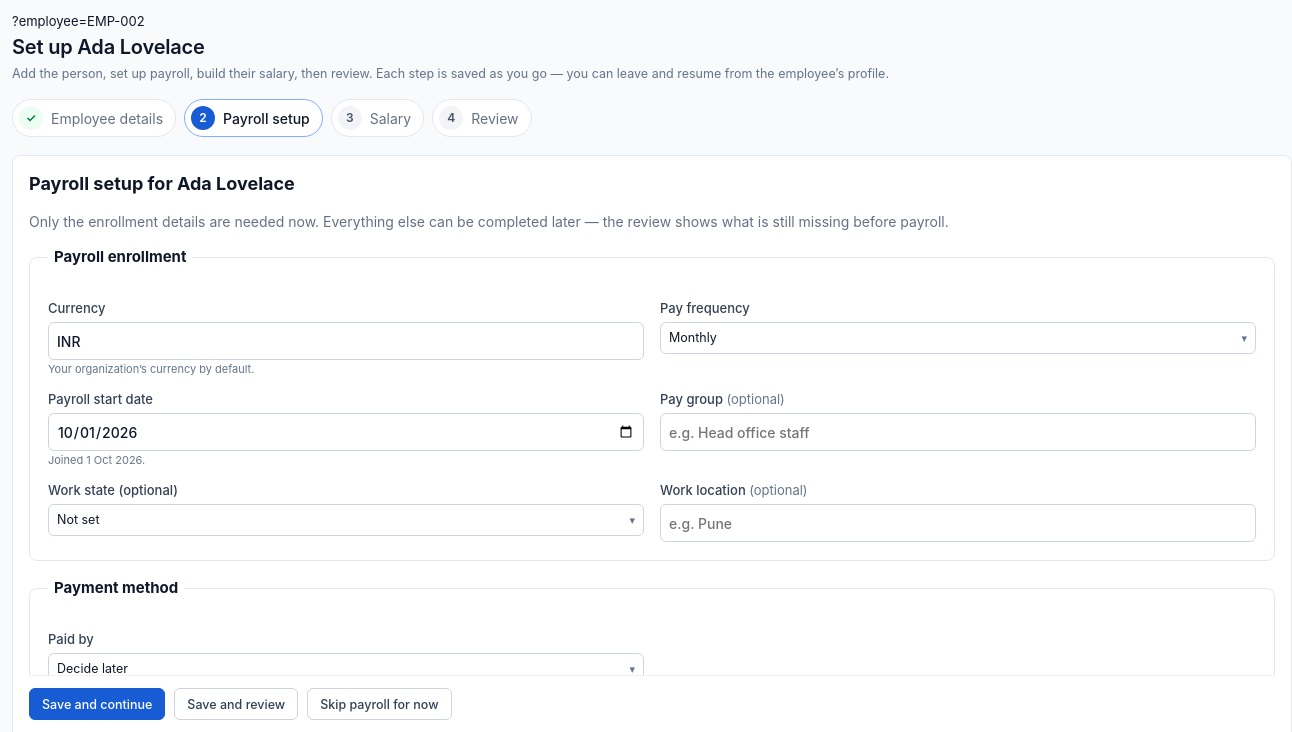
it: treats an existing payroll enrollment as done instead of failing
Expected: the heading "Payroll setup for Ada Lovelace" is shown, [29, 173, 295, 194]
Click the button "Save and continue": x=97, y=704 [29, 688, 165, 720]
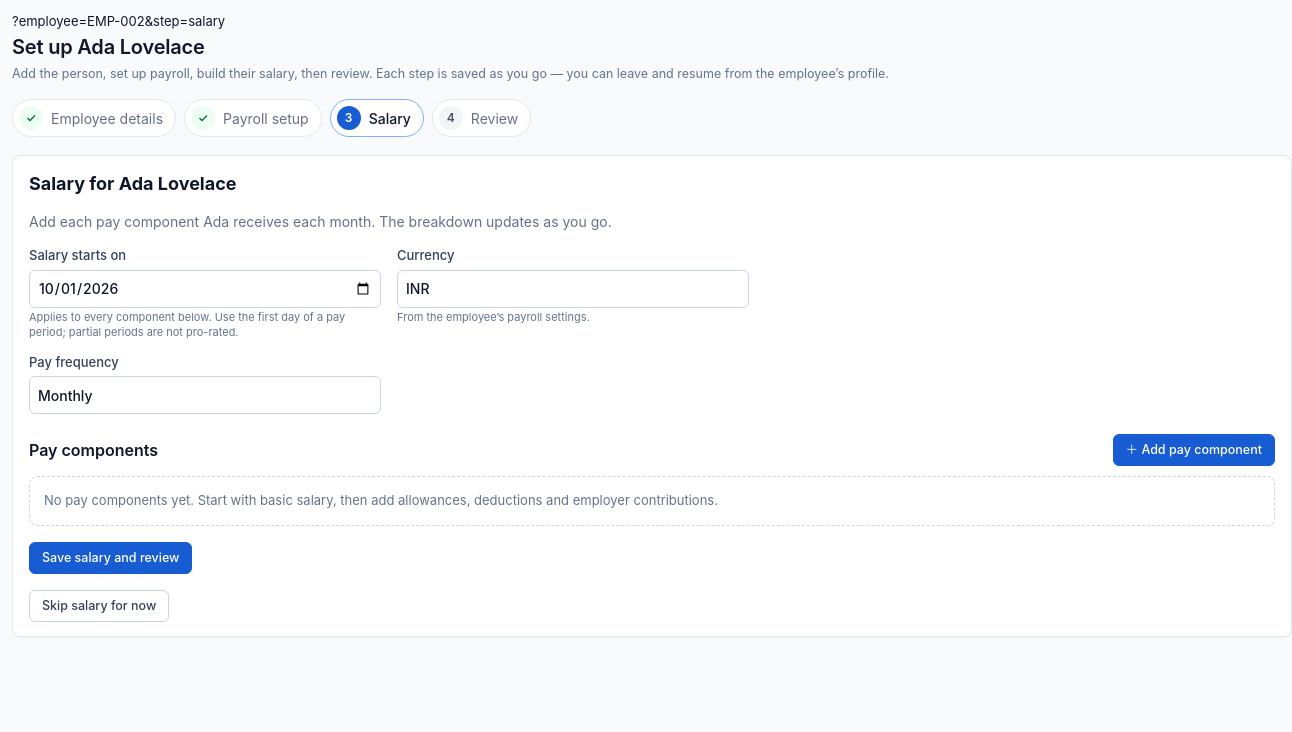
Expected: the heading "Salary for Ada Lovelace" is shown, [29, 173, 236, 194]
